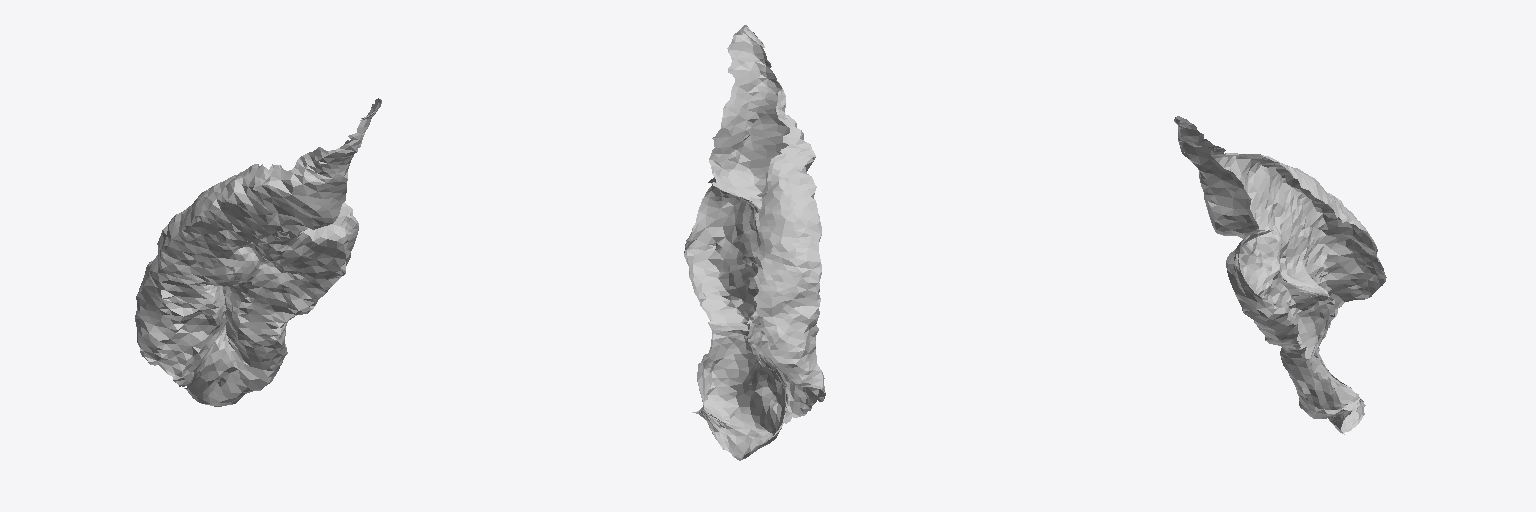
The model's file is L_fusiform.obj.
3 renders of one model, left to right at view 1: azimuth 30°, elevation 25°; view 2: azimuth 150°, elevation 25°; view 3: azimuth 270°, elevation 25°, orthographic.
Visible parts, largest first — view 1: L_fusiform_R_fusiform; view 2: L_fusiform_R_fusiform; view 3: L_fusiform_R_fusiform.
Part boxes in pixels (bbox=[...]): L_fusiform_R_fusiform: bbox=[135, 98, 381, 406]; L_fusiform_R_fusiform: bbox=[684, 25, 825, 460]; L_fusiform_R_fusiform: bbox=[1174, 116, 1386, 434].
Size of the model in its own units: 101 by 195 by 107.